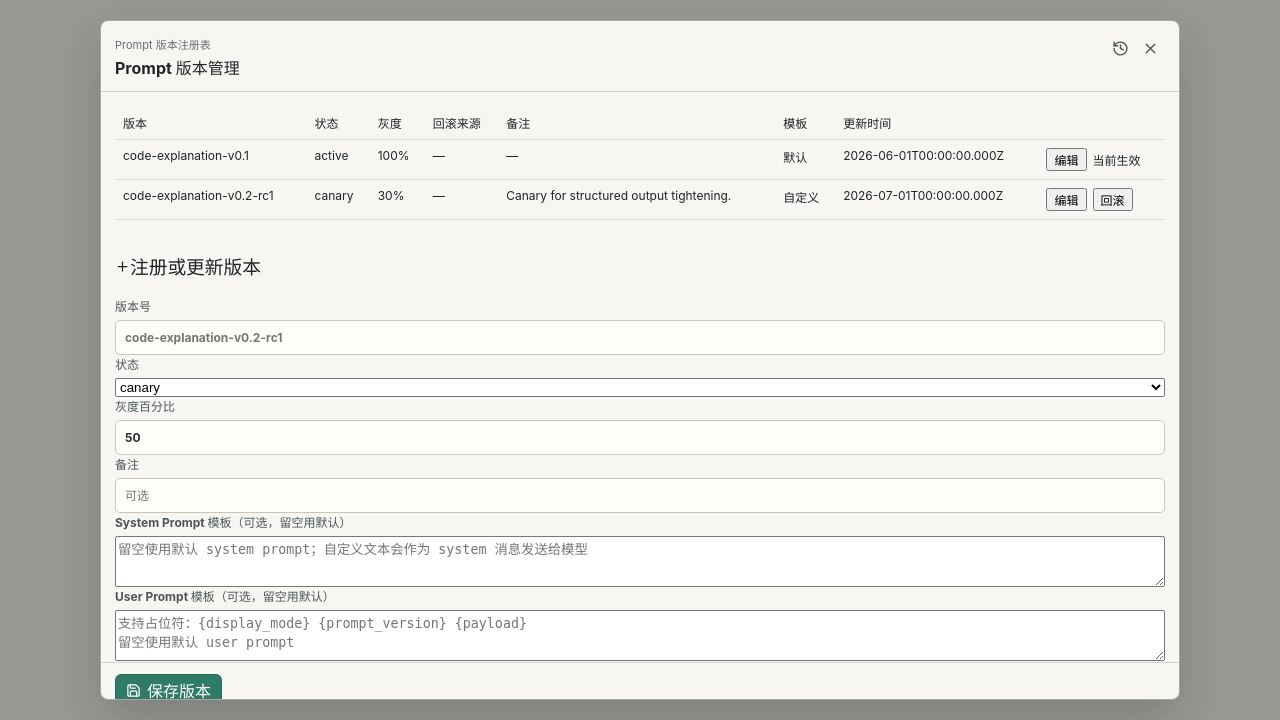
Test case: PromptRegistryDialog interactions › prefills the register form when editing an existing version
Click the button "编辑" in the row of "code-explanation-v0.2-rc1" at coordinates (1066, 200), box 1046,188 -> 1086,211
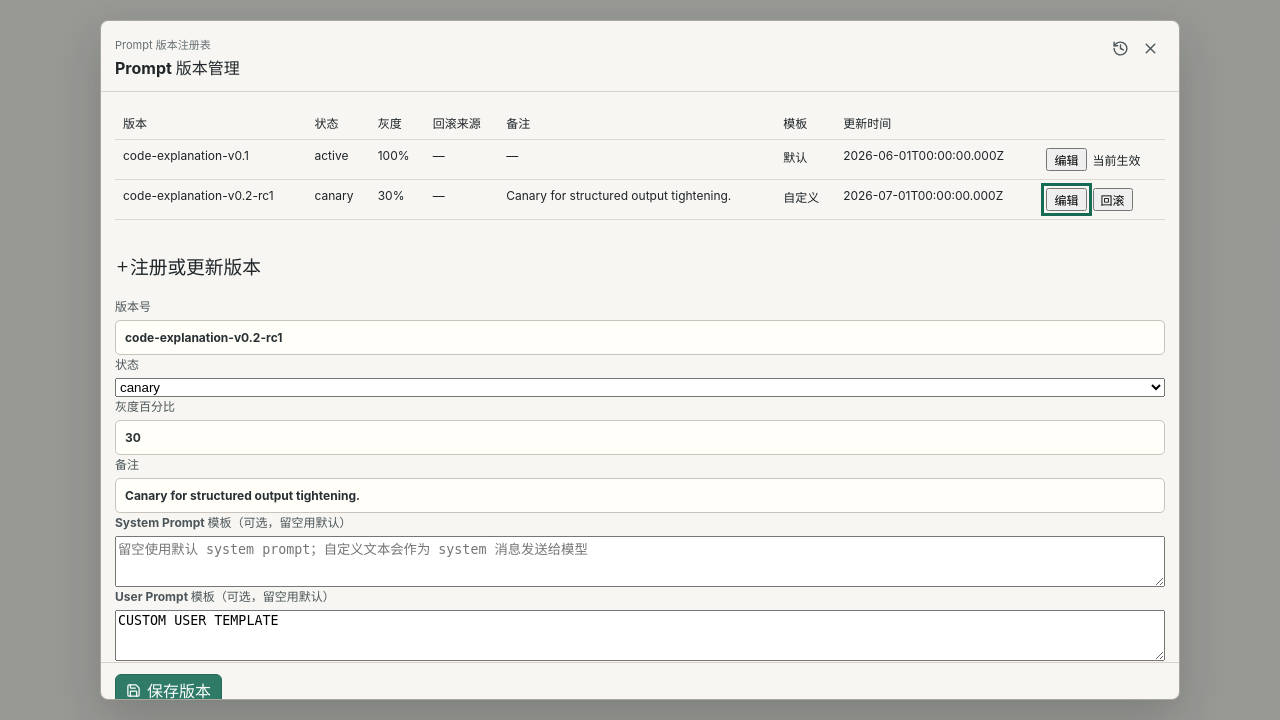
Expected: the field with placeholder "code-explanation-v0.2-rc1" holds "code-explanation-v0.2-rc1", 115,320 -> 1165,355
Expected: the number field labelled "灰度百分比" holds "30", 115,420 -> 1165,455
Expected: the text box labelled "User Prompt 模板（可选，留空用默认）" holds "CUSTOM USER TEMPLATE", 115,610 -> 1165,661
